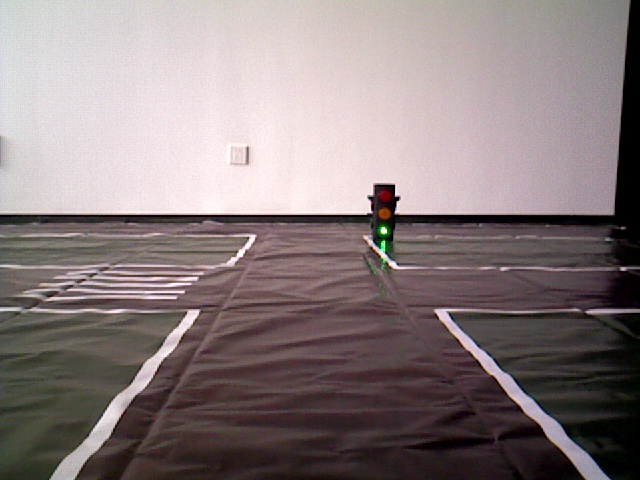green: (373, 184, 392, 238)
